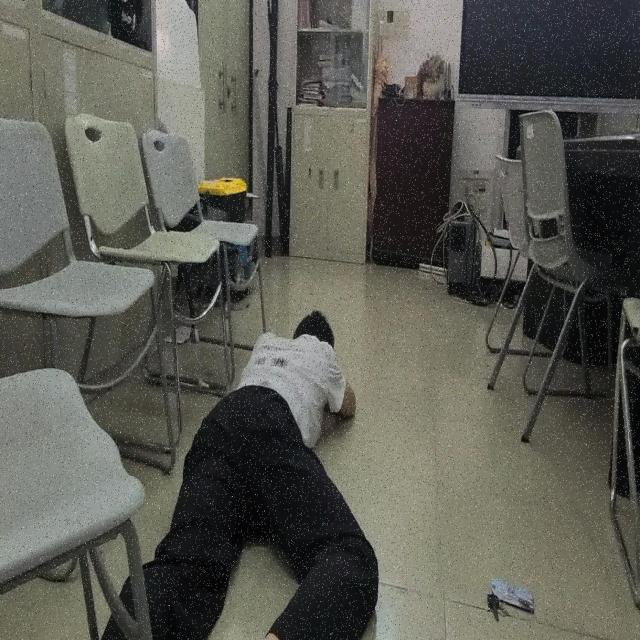fall: (96, 308, 378, 640)
